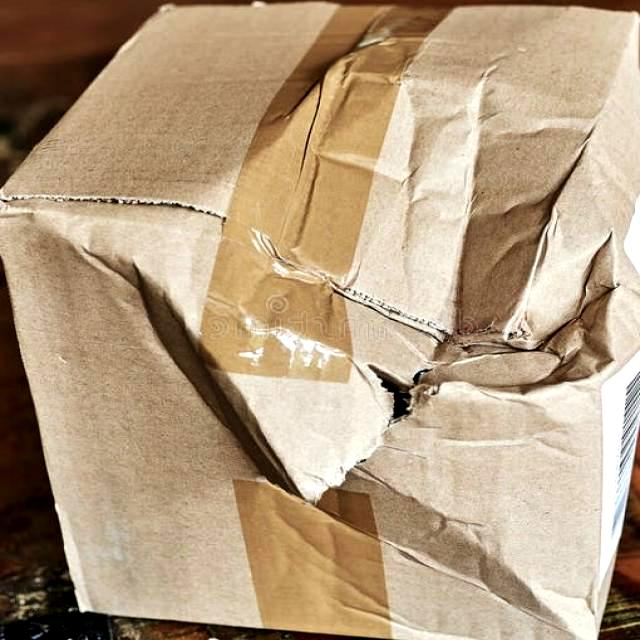Cardboard Box: (0, 0, 640, 640)
cut: (292, 352, 432, 503)
deform: (126, 72, 632, 626)
